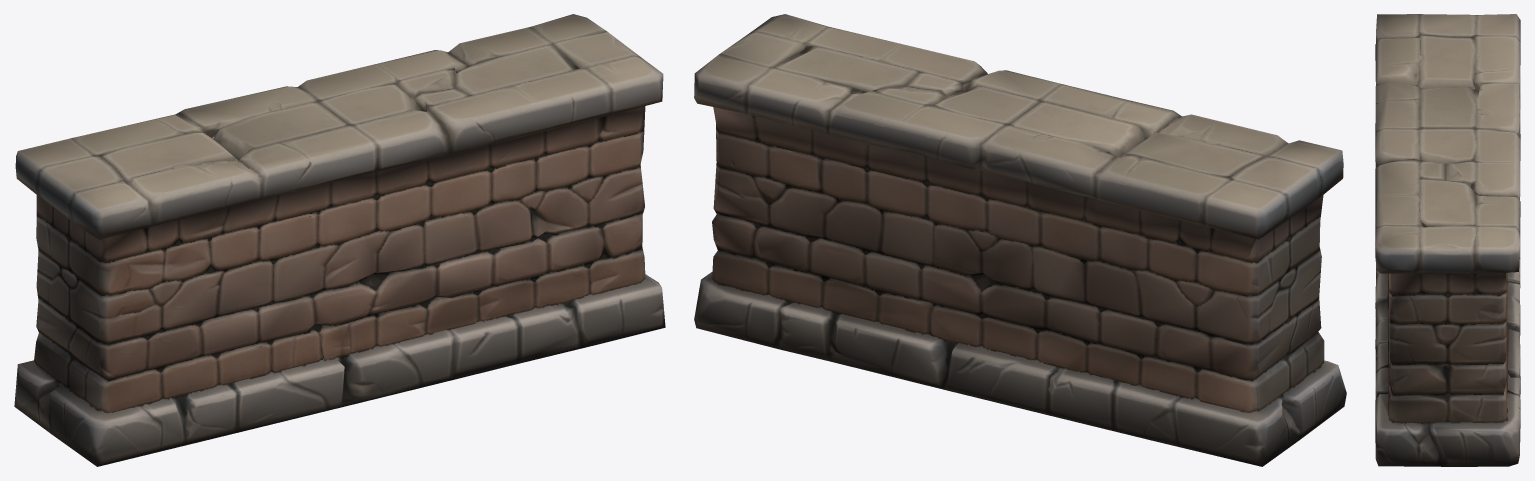
The model's file is WallBrick.fbx.
The picture shows the model from 3 angles, left to right: view 1: azimuth 30°, elevation 25°; view 2: azimuth 150°, elevation 25°; view 3: azimuth 270°, elevation 25°; orthographic projection. The views are drawn at different scales.
Visible parts, largest first — view 1: WallBrick; view 2: WallBrick; view 3: WallBrick.
Boxes of the visible parts, x1=… form: WallBrick: x1=14, y1=14, x2=665, y2=466; WallBrick: x1=694, y1=14, x2=1346, y2=466; WallBrick: x1=1375, y1=14, x2=1520, y2=466.
Bounding box in the file's own units: 1 × 0.4274 × 0.2585.
